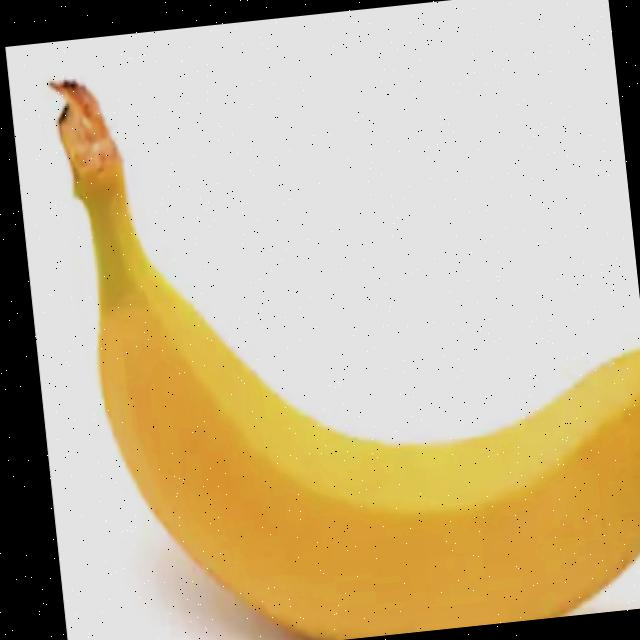Ripe: (27, 11, 640, 640)
